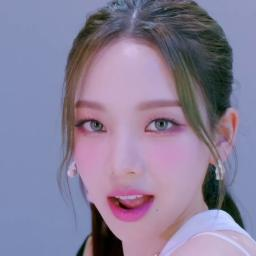face: (80, 53, 194, 231)
